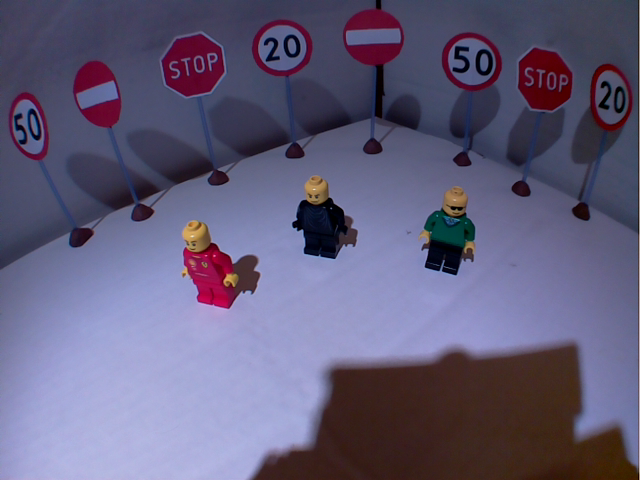Ograniczenie 20: (248, 16, 315, 80), (585, 60, 637, 139)
Ograniczenie 50: (439, 28, 505, 95), (5, 89, 54, 166)
Postac LEGO: (174, 212, 243, 315), (417, 182, 482, 283), (286, 172, 352, 270)
Stop: (156, 29, 229, 103), (514, 44, 578, 116)
Zakaz: (339, 6, 408, 72), (70, 57, 127, 132)
